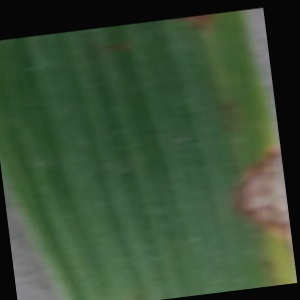Brown_Spot: (221, 135, 285, 258)
